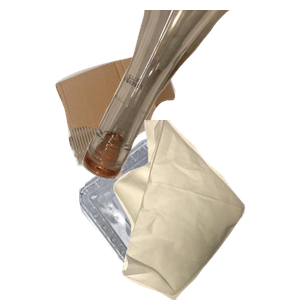cardboard: (53, 45, 221, 204)
glass: (80, 10, 300, 182)
plastic: (77, 133, 289, 300)
trash: (111, 120, 300, 300)
